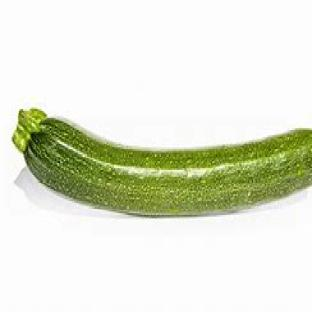Zucchini: (13, 110, 311, 216)
